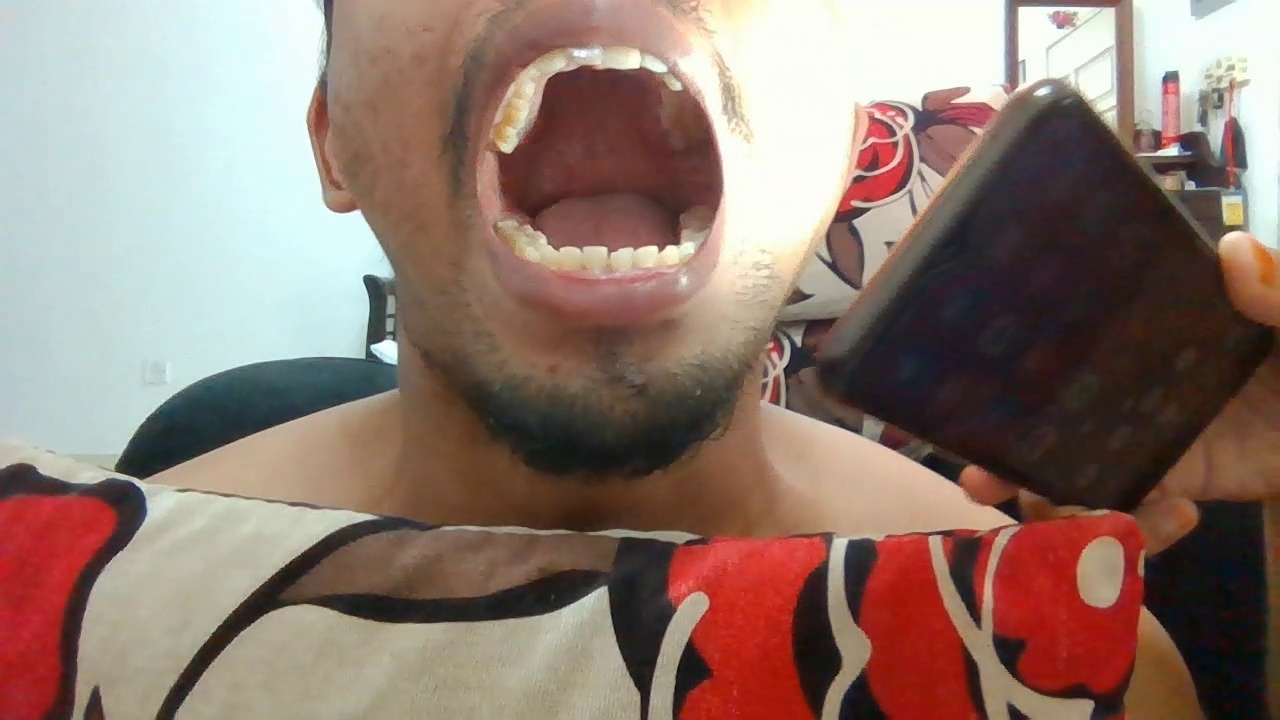1st Molar: (493, 124, 520, 141)
1st Premolar: (505, 95, 534, 110), (681, 241, 696, 264), (522, 246, 539, 261)
2nd Premolar: (499, 108, 525, 126)
Canine: (514, 63, 541, 97), (659, 244, 681, 267), (662, 71, 683, 92), (539, 246, 558, 267)
Central Incisor: (604, 45, 643, 71), (569, 44, 604, 66), (583, 245, 609, 274), (609, 247, 635, 274)
Lateral Incisor: (558, 244, 583, 272), (636, 242, 660, 271), (538, 48, 568, 71), (644, 50, 669, 73)
